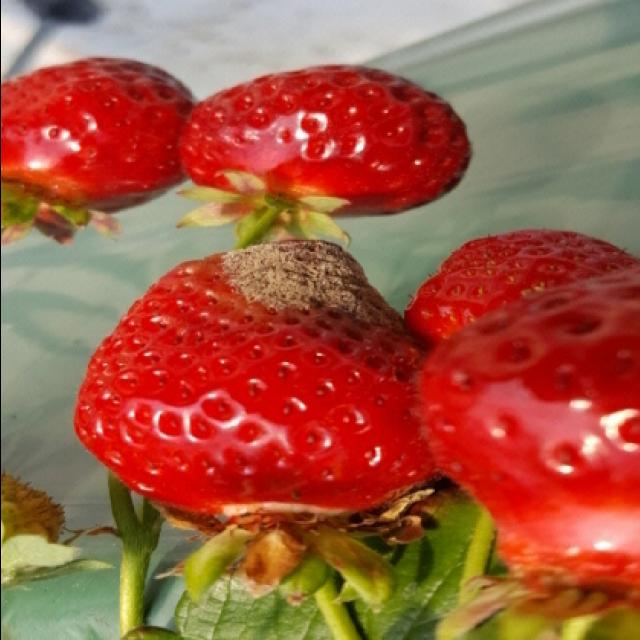Gray Mold: (206, 238, 405, 340)
